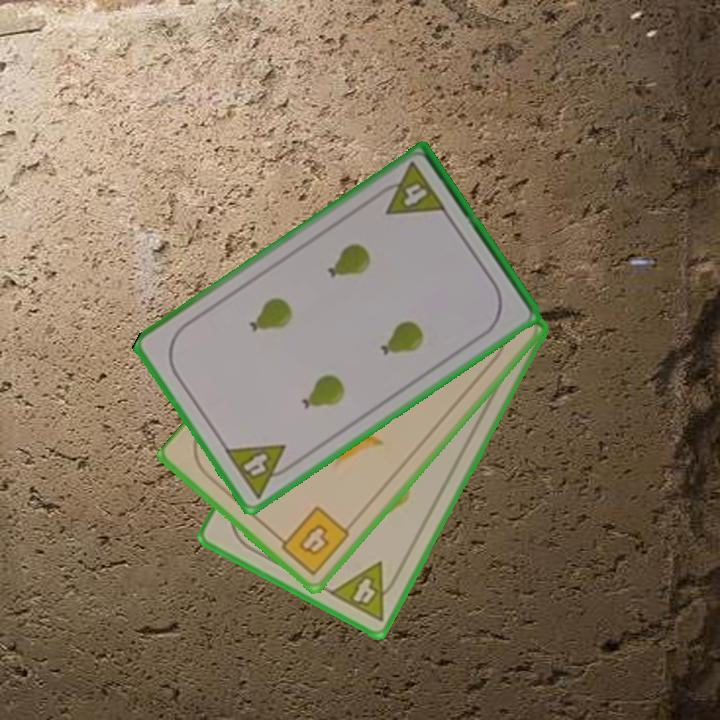4b: (271, 502, 353, 579)
4p: (326, 558, 404, 624), (221, 441, 300, 502), (372, 159, 449, 219)
